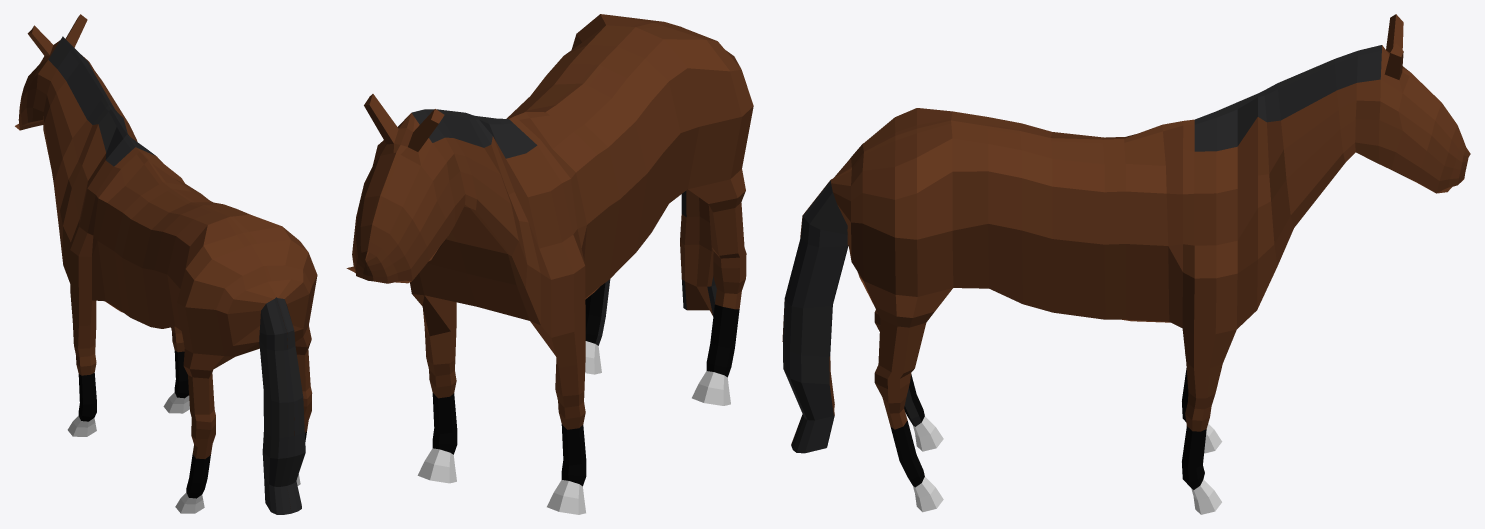
File: western_horse.fbx
3 views of the same model, side by side, from view 1: azimuth 30°, elevation 25°; view 2: azimuth 150°, elevation 25°; view 3: azimuth 270°, elevation 25° (orthographic). The views are drawn at different scales.
Visible parts, largest first — view 1: Cylinder; view 2: Cylinder; view 3: Cylinder.
Boxes of the visible parts, x1=… form: Cylinder: x1=15, y1=14, x2=317, y2=514; Cylinder: x1=346, y1=14, x2=753, y2=514; Cylinder: x1=782, y1=14, x2=1470, y2=514.
Size of the model in its own units: 229 by 577 by 799.
